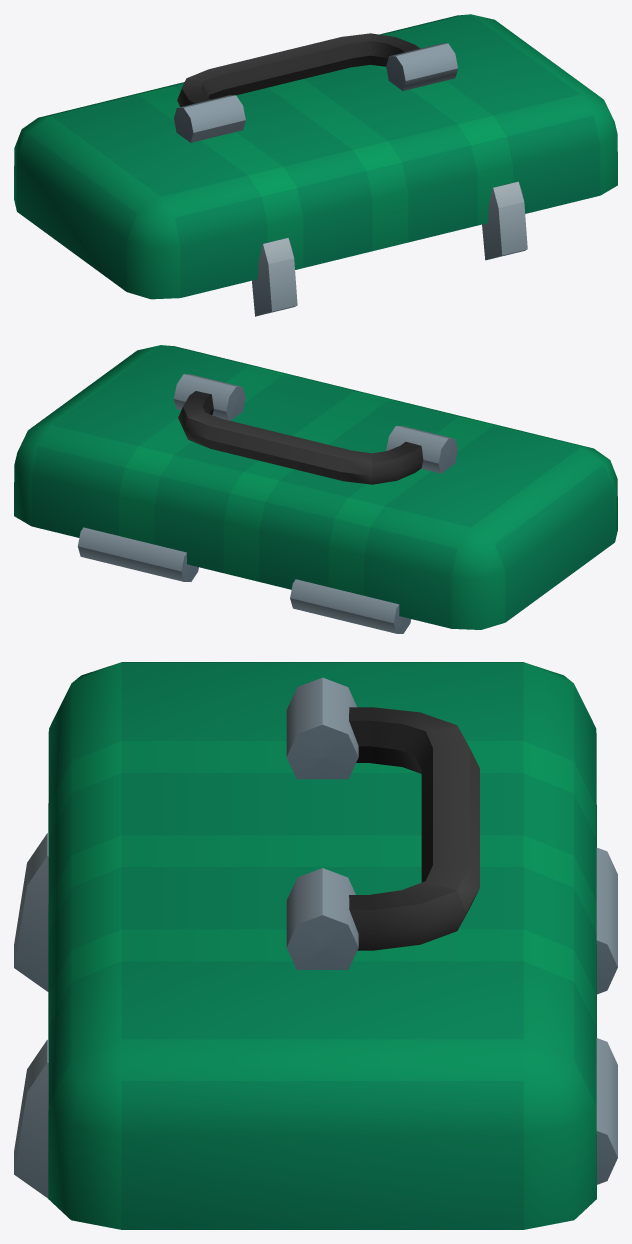
Rendered from fishing_tacklebox_lid.obj.
3 renders of one model, top to bottom at view 1: azimuth 30°, elevation 25°; view 2: azimuth 150°, elevation 25°; view 3: azimuth 270°, elevation 25°, orthographic. The views are drawn at different scales.
Visible parts, largest first — view 1: fishing_tacklebox_lid; view 2: fishing_tacklebox_lid; view 3: fishing_tacklebox_lid.
Part boxes in pixels (x1,y1,x2,y2): fishing_tacklebox_lid: (14, 14, 617, 316); fishing_tacklebox_lid: (14, 345, 617, 633); fishing_tacklebox_lid: (14, 662, 617, 1229).
Bounding box in the file's own units: 0.9591 × 0.2985 × 0.5585.
1 material, 1 textured.
